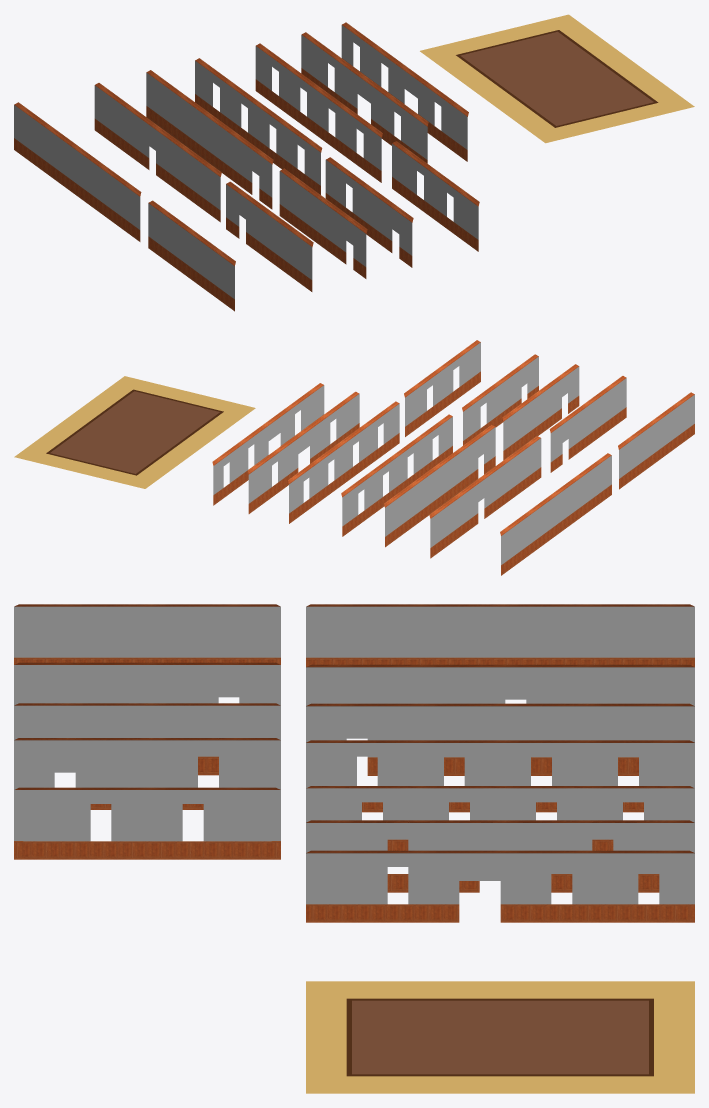
File: Raum1.dae
3 views of the same model, one above another, from view 1: azimuth 30°, elevation 25°; view 2: azimuth 150°, elevation 25°; view 3: azimuth 270°, elevation 25° (orthographic). The views are drawn at different scales.
Visible parts, largest first — view 1: Boden, Wand_19, Wand_19.001, Wand_19.002, Wand_19.004, Wand_19.003, Wand_19.005, Wand_19.006, Wand_13, Wand_13.002, Wand_13.001, Wand_13.004 (+1 smaller); view 2: Boden, Wand_19, Wand_19.001, Wand_19.002, Wand_19.004, Wand_19.003, Wand_19.005, Wand_19.006, Wand_13, Wand_13.001, Wand_13.002, Wand_13.004 (+1 smaller); view 3: Boden, Wand_19.006, Wand_19, Wand_13.004, Wand_19.003, Wand_19.002, Wand_13, Wand_19.001, Wand_19.005, Wand_19.004, Wand_13.003, Wand_13.001 (+1 smaller).
Boxes of the visible parts, bbox=[...] form: Boden: bbox=[420, 14, 694, 143]; Wand_19: bbox=[14, 102, 141, 241]; Wand_19.001: bbox=[94, 83, 221, 222]; Wand_19.002: bbox=[146, 70, 273, 209]; Wand_19.004: bbox=[255, 43, 382, 182]; Wand_19.003: bbox=[195, 58, 322, 194]; Wand_19.005: bbox=[301, 32, 428, 163]; Wand_19.006: bbox=[341, 22, 468, 161]; Wand_13: bbox=[148, 200, 235, 311]; Wand_13.002: bbox=[279, 168, 367, 278]; Wand_13.001: bbox=[226, 181, 313, 291]; Wand_13.004: bbox=[392, 141, 479, 251]; Boden: bbox=[14, 376, 255, 488]; Wand_19: bbox=[500, 453, 611, 575]; Wand_19.001: bbox=[429, 436, 541, 558]; Wand_19.002: bbox=[384, 425, 495, 547]; Wand_19.004: bbox=[288, 401, 399, 523]; Wand_19.003: bbox=[341, 414, 452, 536]; Wand_19.005: bbox=[248, 391, 359, 513]; Wand_19.006: bbox=[212, 383, 324, 505]; Wand_13: bbox=[618, 392, 694, 489]; Wand_13.001: bbox=[549, 376, 626, 472]; Wand_13.002: bbox=[502, 364, 579, 460]; Wand_13.004: bbox=[404, 340, 480, 436]; Boden: bbox=[306, 981, 694, 1093]; Wand_19.006: bbox=[306, 850, 694, 922]; Wand_19: bbox=[306, 604, 694, 666]; Wand_13.004: bbox=[14, 787, 280, 859]; Wand_19.003: bbox=[306, 740, 694, 812]; Wand_19.002: bbox=[306, 703, 694, 775]; Wand_13: bbox=[14, 604, 280, 664]; Wand_19.001: bbox=[306, 664, 694, 705]; Wand_19.005: bbox=[306, 820, 694, 892]; Wand_19.004: bbox=[306, 786, 694, 850]; Wand_13.003: bbox=[14, 738, 280, 809]; Wand_13.001: bbox=[14, 662, 280, 705].
Size of the model in its own units: 48.23 by 33.25 by 4.
